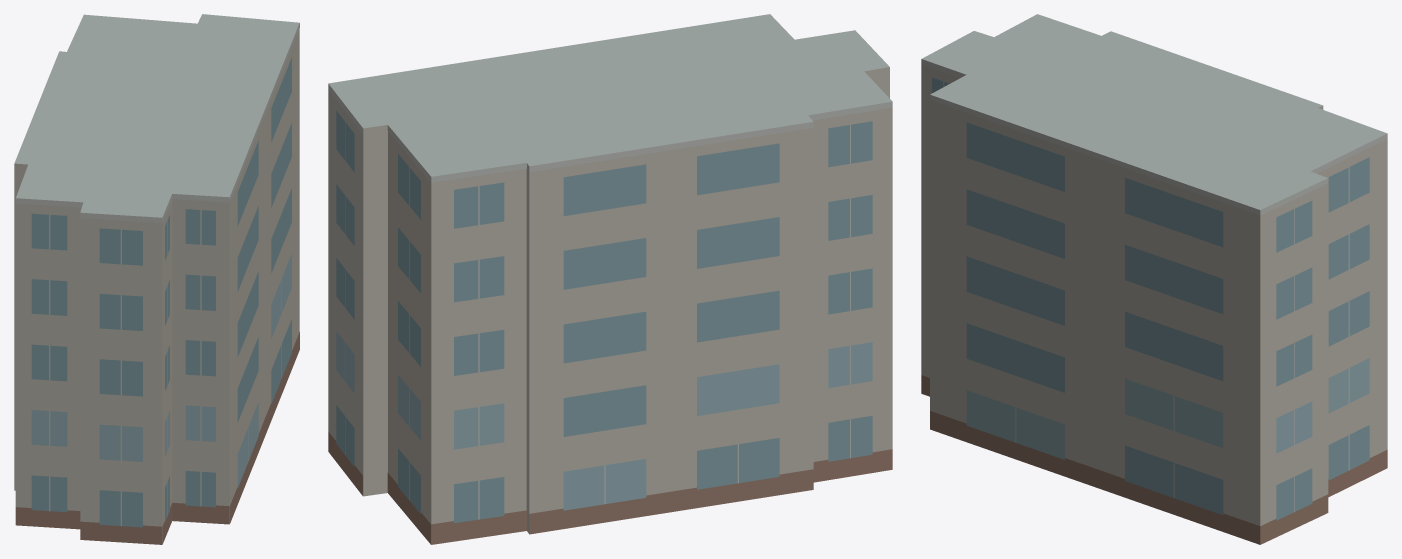
Rendered from survey-upis-32493864.glb.
3 renders of one model, left to right at view 1: azimuth 30°, elevation 25°; view 2: azimuth 150°, elevation 25°; view 3: azimuth 270°, elevation 25°, orthographic. The views are drawn at different scales.
Parts seen in each view (by area): view 1: survey-upis-32493864.tmp; view 2: survey-upis-32493864.tmp; view 3: survey-upis-32493864.tmp.
Boxes of the visible parts, <box> form: survey-upis-32493864.tmp: <box>14,14,299,544</box>; survey-upis-32493864.tmp: <box>328,14,892,544</box>; survey-upis-32493864.tmp: <box>921,14,1387,544</box>.
Bounding box in the file's own units: 18.98 × 15.1 × 19.06.
